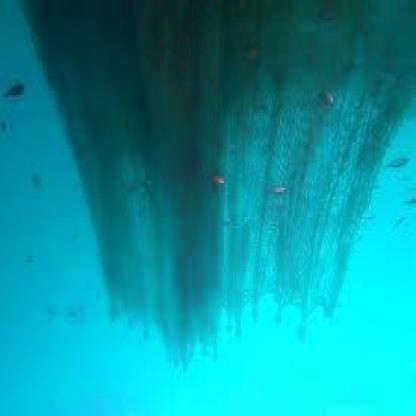net: (110, 90, 371, 364)
